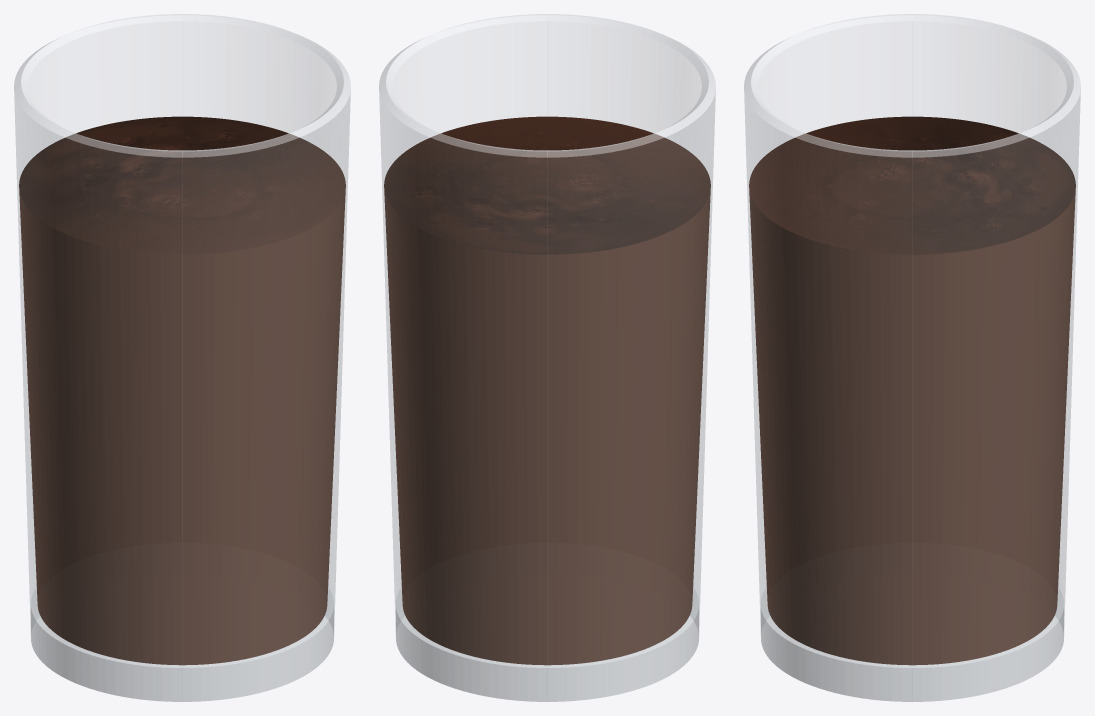
File: cola.glb
3 views of the same model, side by side, from view 1: azimuth 30°, elevation 25°; view 2: azimuth 150°, elevation 25°; view 3: azimuth 270°, elevation 25° (orthographic).
Parts seen in each view (by area): view 1: cola_0, cola_3, cola_4, cola_2, cola_1; view 2: cola_0, cola_3, cola_4, cola_2, cola_1; view 3: cola_0, cola_3, cola_4, cola_2, cola_1.
Part boxes in pixels (left/top/right/bottom): cola_0: left=14, top=21, right=350, bottom=701; cola_3: left=19, top=116, right=345, bottom=665; cola_4: left=19, top=116, right=345, bottom=254; cola_2: left=31, top=587, right=333, bottom=701; cola_1: left=14, top=14, right=350, bottom=157; cola_0: left=379, top=21, right=715, bottom=701; cola_3: left=384, top=116, right=710, bottom=665; cola_4: left=384, top=116, right=710, bottom=254; cola_2: left=396, top=587, right=698, bottom=701; cola_1: left=379, top=14, right=715, bottom=157; cola_0: left=744, top=21, right=1080, bottom=701; cola_3: left=749, top=116, right=1075, bottom=665; cola_4: left=749, top=116, right=1075, bottom=254; cola_2: left=761, top=587, right=1063, bottom=701; cola_1: left=744, top=14, right=1080, bottom=157.
Bounding box in the file's own units: 0.072 × 0.131 × 0.072.
5 materials, 1 textured.
